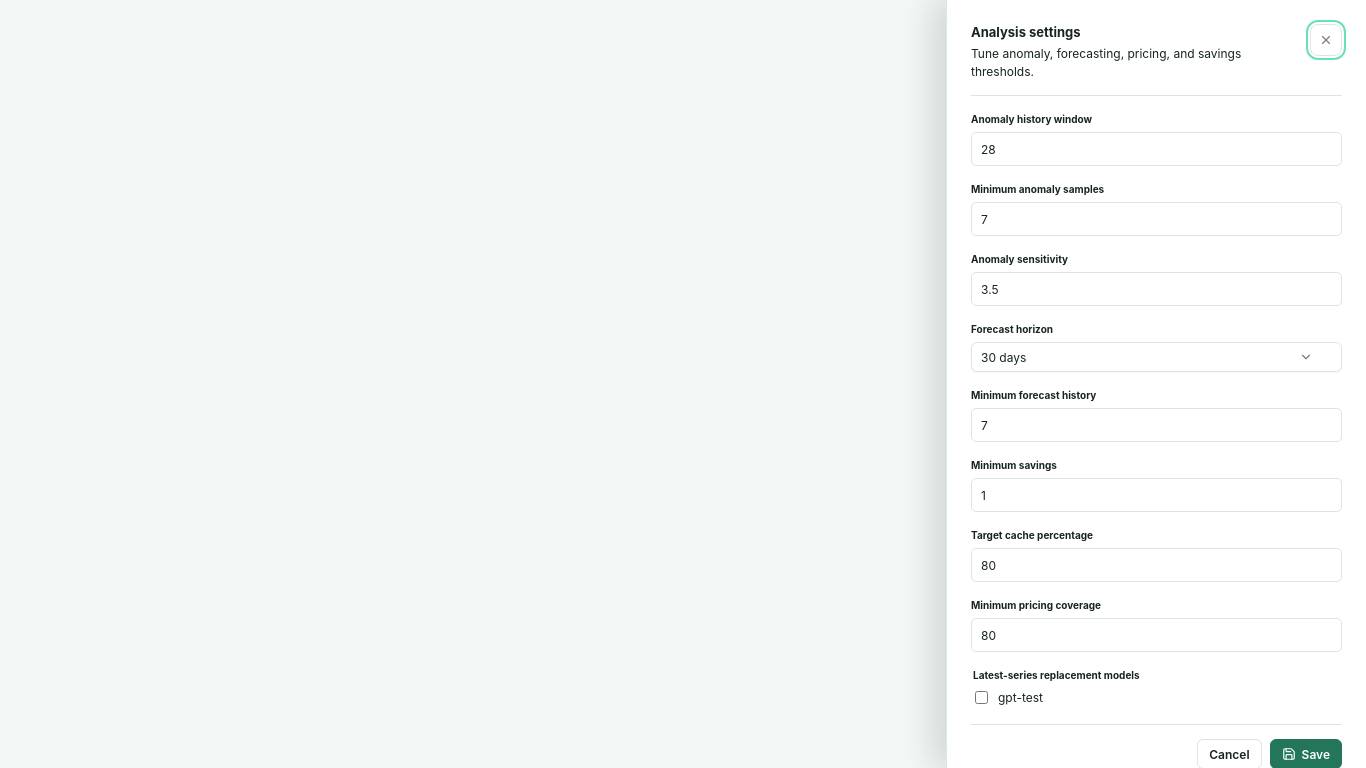
Test: overlay exit transitions › closes the forecast horizon menu with Escape without closing the settings drawer
Click the dropdown named "Forecast horizon".
click(1004, 357)  # box [971, 342, 1342, 372]
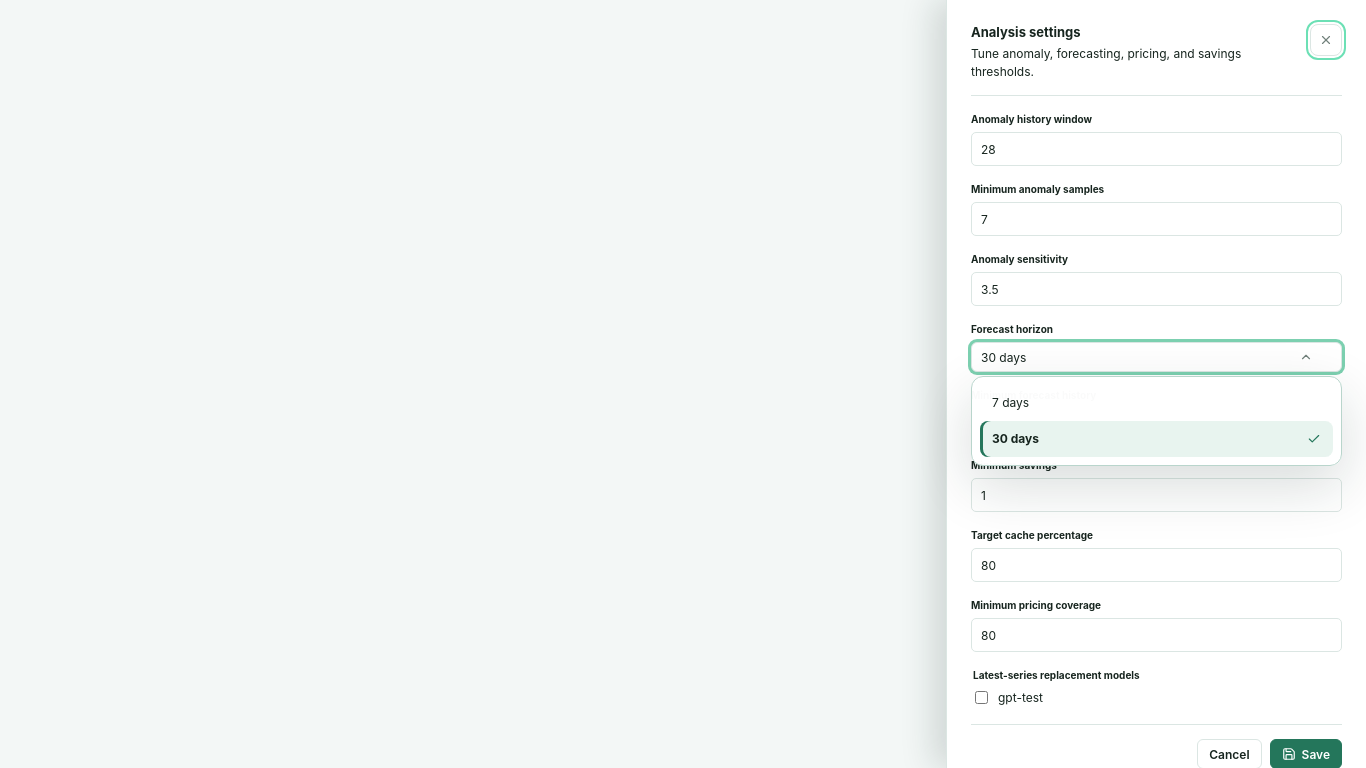
expect the list named "Forecast horizon" is shown: met, box [980, 385, 1333, 457]
Press Escape in the dropdown named "Forecast horizon", box [971, 342, 1342, 372]
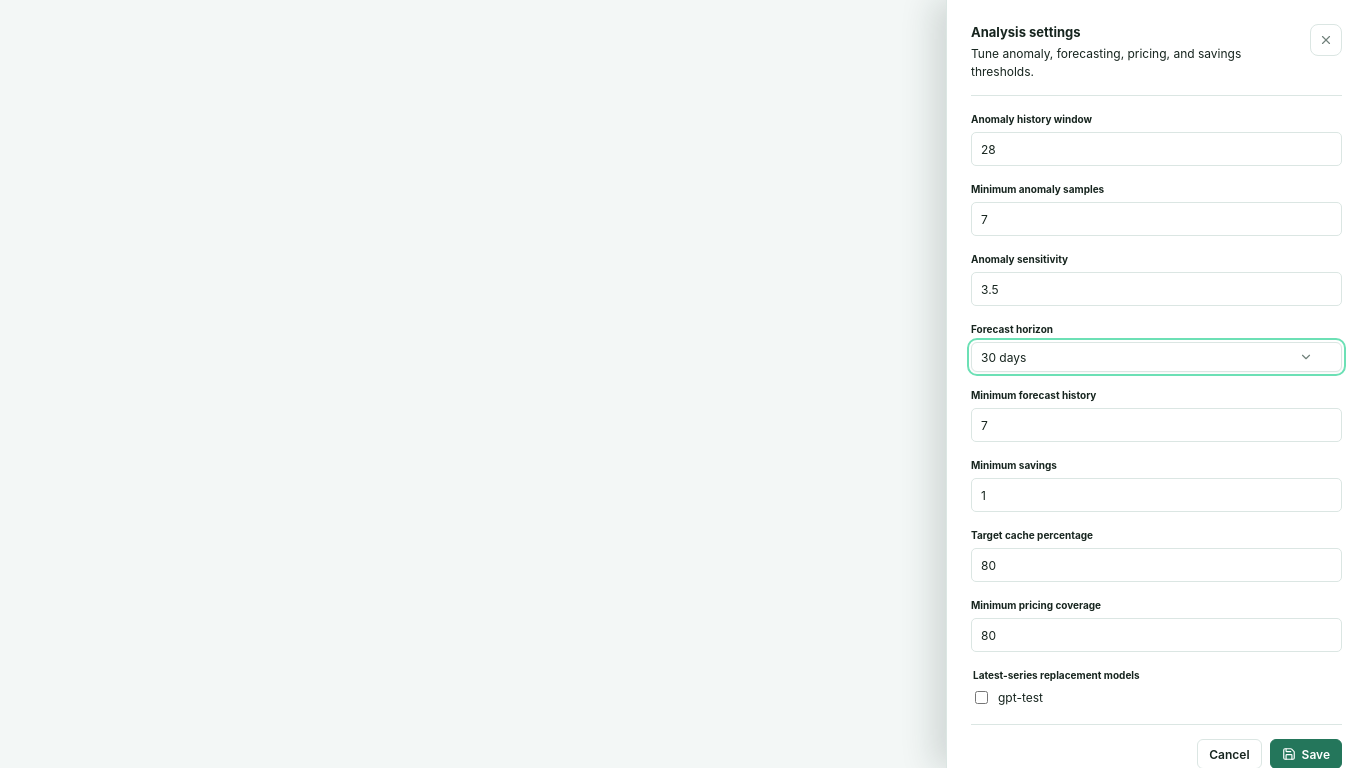
Click the dropdown named "Forecast horizon".
click(1004, 357)  # box [971, 342, 1342, 372]
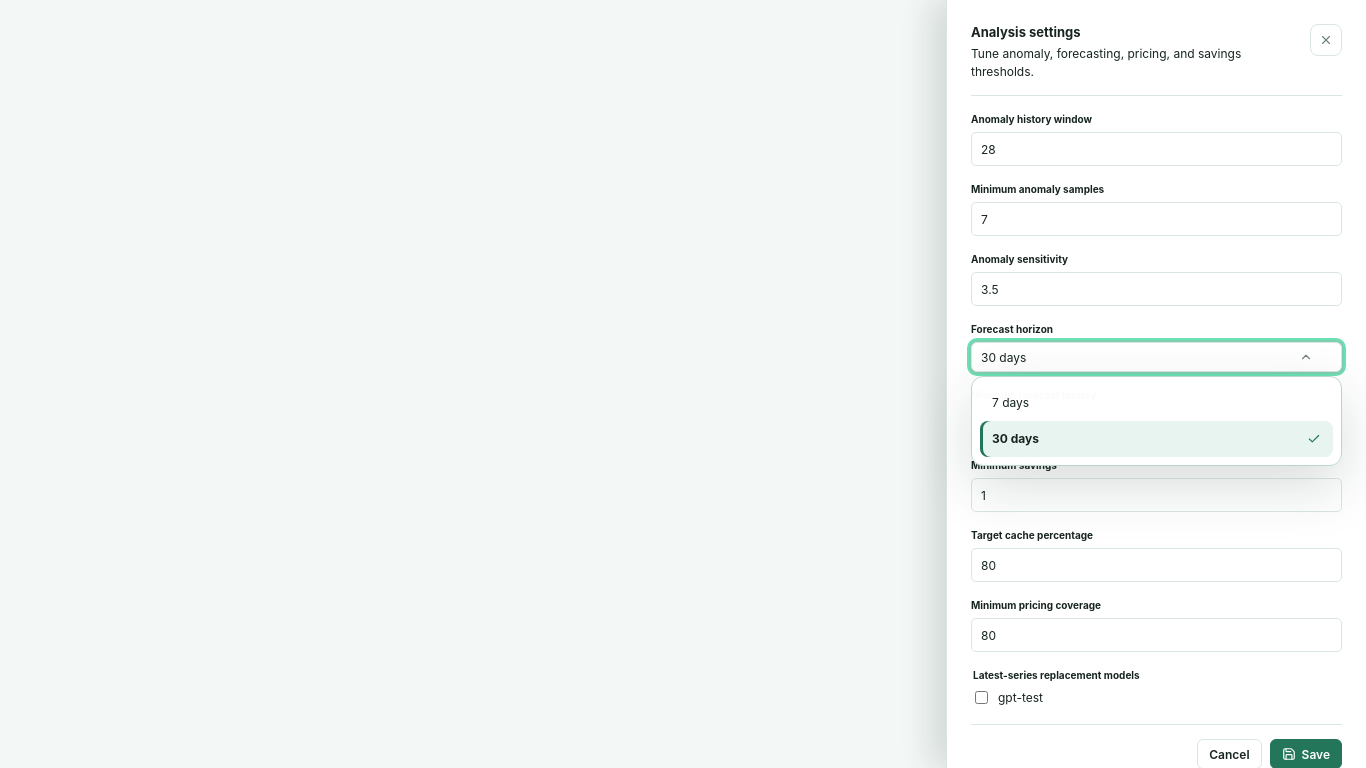
Click the option "7 days".
click(1011, 402)  # box [980, 385, 1333, 421]
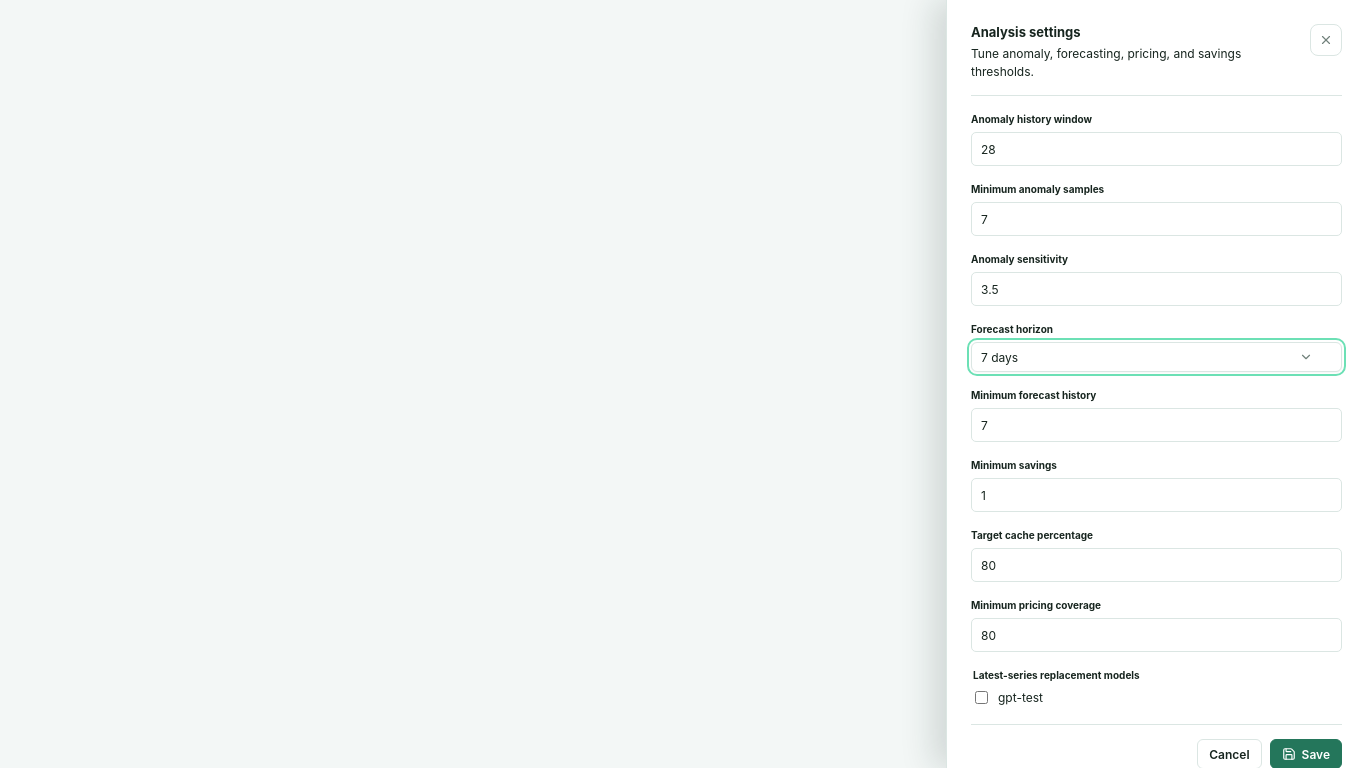
expect the dropdown named "Forecast horizon" reads "7 days": met, box [971, 342, 1342, 372]
